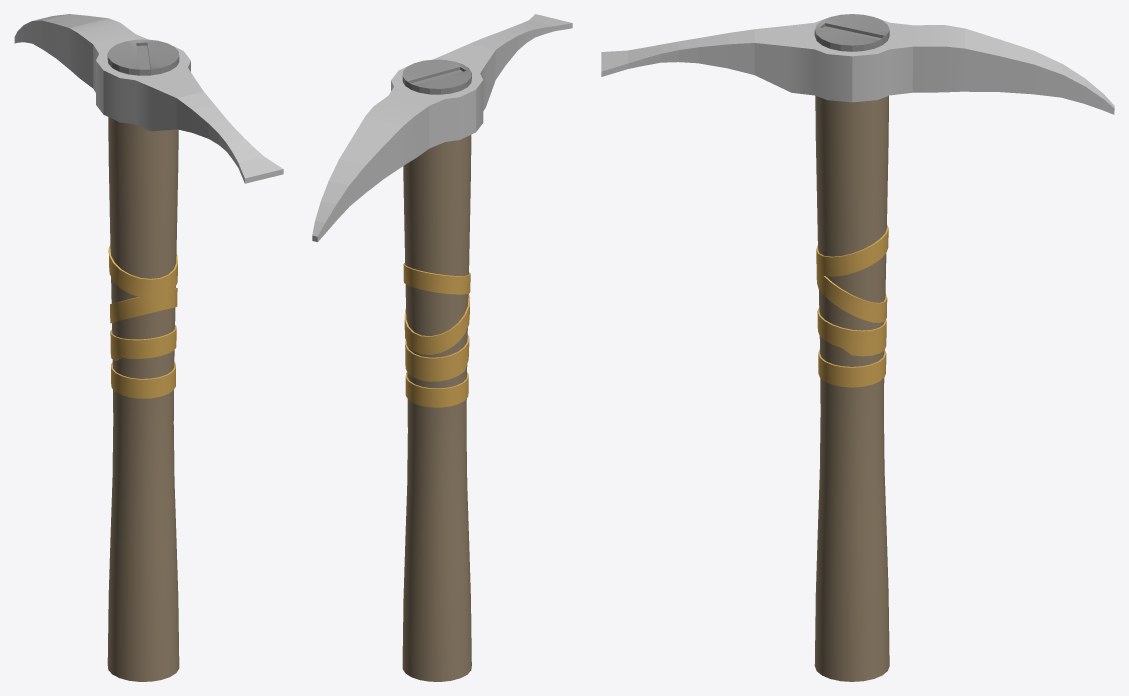
The model's file is pick.fbx.
The picture shows the model from 3 angles, left to right: view 1: azimuth 30°, elevation 25°; view 2: azimuth 150°, elevation 25°; view 3: azimuth 270°, elevation 25°; orthographic projection. The views are drawn at different scales.
Parts seen in each view (by area): view 1: polySurface1, pCube1, polySurface5; view 2: polySurface1, pCube1, polySurface5; view 3: polySurface1, pCube1, polySurface5.
Part boxes in pixels (x1,y1,x2,y2): polySurface1: (107, 39, 179, 681); pCube1: (14, 14, 283, 183); polySurface5: (108, 245, 177, 398); polySurface1: (402, 59, 471, 681); pCube1: (312, 14, 572, 242); polySurface5: (403, 263, 470, 407); polySurface1: (814, 14, 889, 681); pCube1: (601, 18, 1114, 114); polySurface5: (816, 225, 888, 387).
Size of the model in its own units: 1.89 by 13.81 by 10.1.
